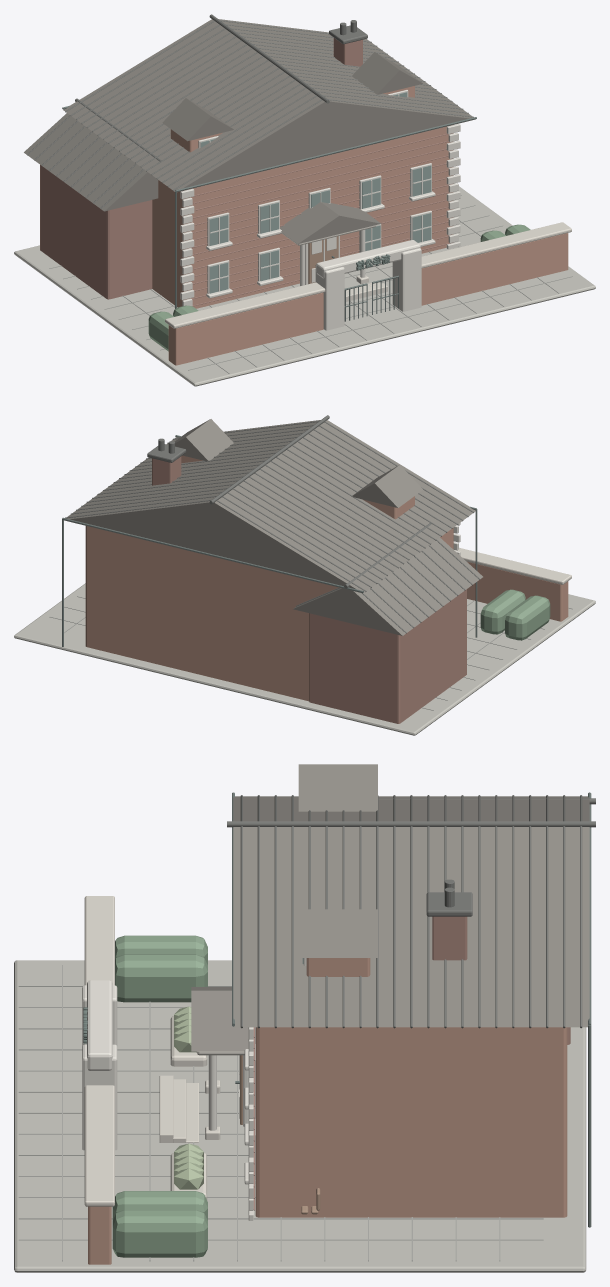
File: xinhua-mansion.glb
3 views of the same model, one above another, from view 1: azimuth 30°, elevation 25°; view 2: azimuth 150°, elevation 25°; view 3: azimuth 270°, elevation 25° (orthographic). The views are drawn at different scales.
Visible parts, largest first — view 1: xinhua-mansion; view 2: xinhua-mansion; view 3: xinhua-mansion.
Part boxes in pixels (x1,y1,x2,y2): xinhua-mansion: [14, 14, 595, 386]; xinhua-mansion: [14, 415, 595, 735]; xinhua-mansion: [14, 764, 595, 1272].
Size of the model in its own units: 23 by 10.54 by 18.3.
